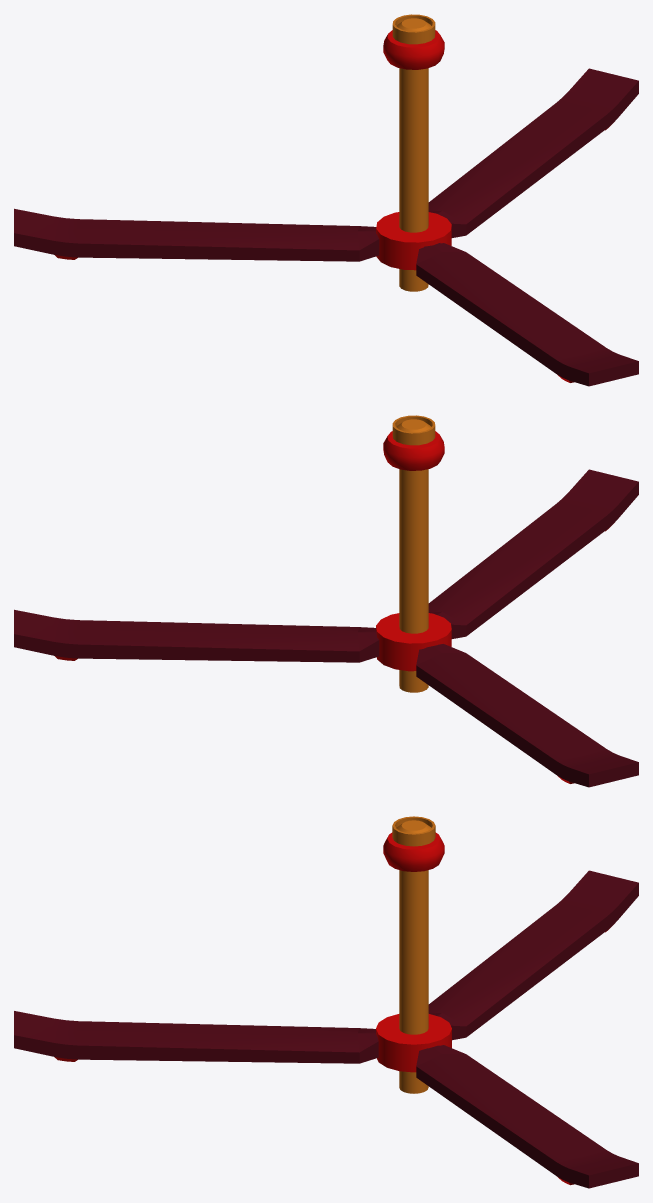
The model's file is fan5.glb.
3 renders of one model, top to bottom at view 1: azimuth 30°, elevation 25°; view 2: azimuth 150°, elevation 25°; view 3: azimuth 270°, elevation 25°, orthographic.
Parts seen in each view (by area): view 1: Fan5_Tris; view 2: Fan5_Tris; view 3: Fan5_Tris.
Part boxes in pixels (x1,y1,x2,y2): Fan5_Tris: (14, 14, 638, 386); Fan5_Tris: (14, 415, 638, 787); Fan5_Tris: (14, 816, 638, 1188).
Size of the model in its own units: 4 by 1.6 by 3.47.
